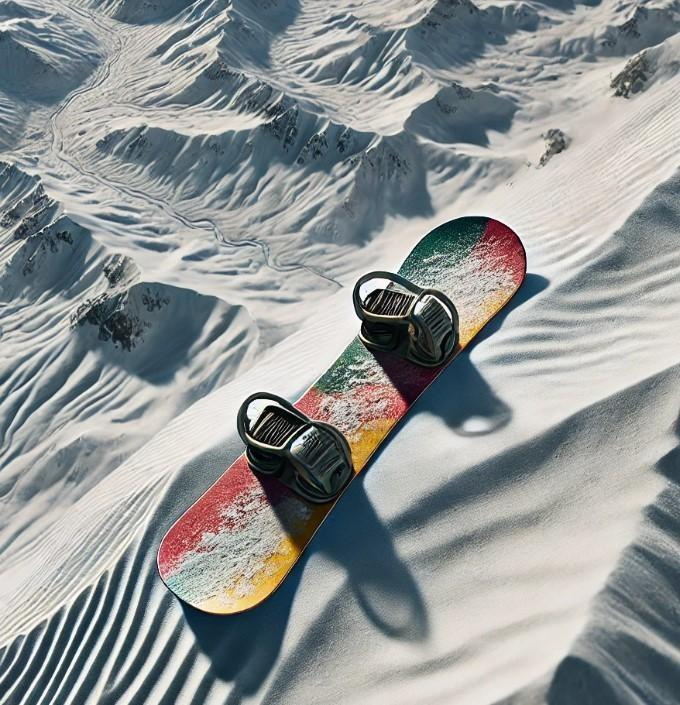Snowboard: (118, 181, 567, 644)
